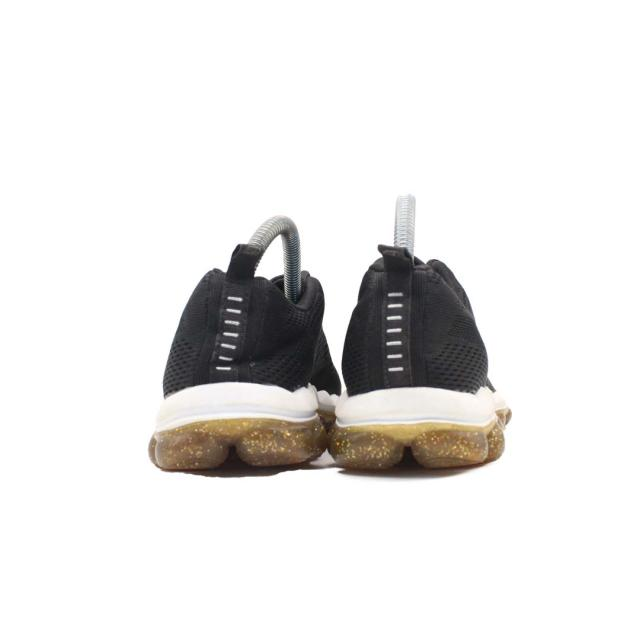heel: (332, 216, 482, 394), (159, 209, 306, 387)
midsole: (334, 387, 518, 474), (147, 399, 309, 469)
